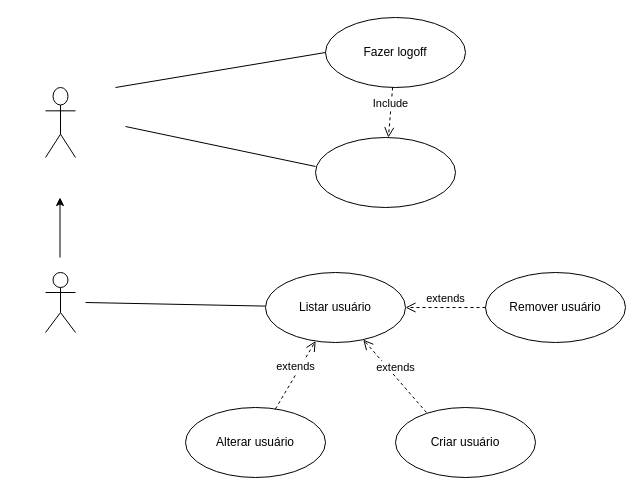
This 643x495 diagram has some shape labels left out. Here are the shapes that lost their labels. From the top down, the centre of each, then its label:
pixel 60 122: Funcionário
pixel 385 172: Fazer login
pixel 60 302: Adm do sistema
